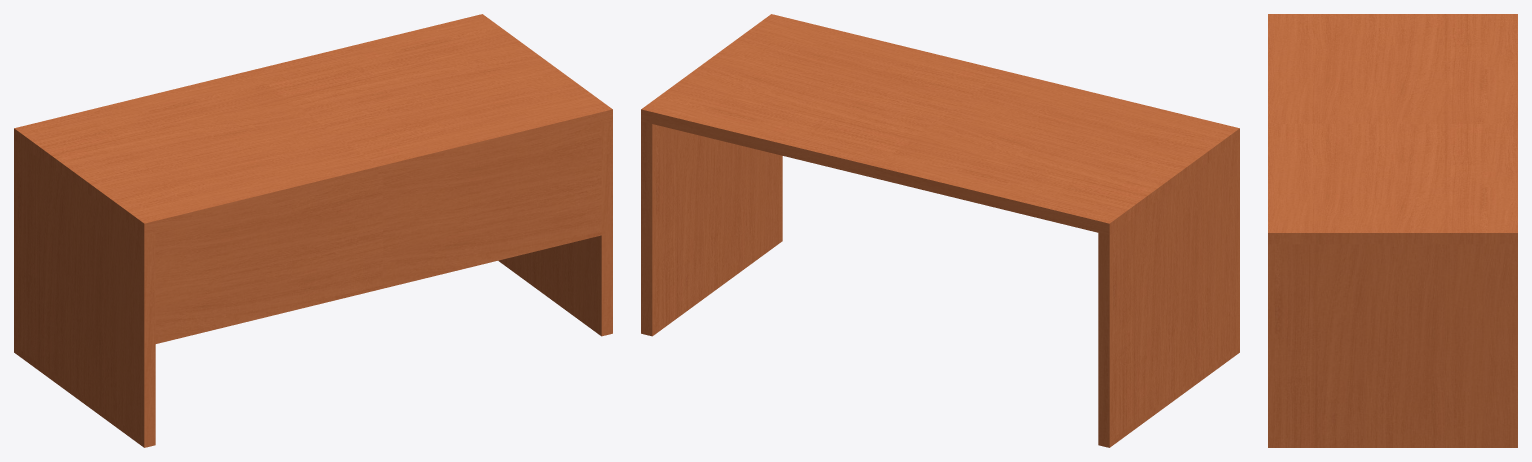
The model's file is Table_02.dae.
3 views of the same model, side by side, from view 1: azimuth 30°, elevation 25°; view 2: azimuth 150°, elevation 25°; view 3: azimuth 270°, elevation 25° (orthographic). The views are drawn at different scales.
Visible parts, largest first — view 1: Table_02; view 2: Table_02; view 3: Table_02.
Boxes of the visible parts, box(x1,y1,x2,y2) form: Table_02: box(14, 14, 612, 447); Table_02: box(641, 14, 1239, 447); Table_02: box(1268, 14, 1517, 447).
Size of the model in its own units: 1.65 by 0.795 by 0.755.
Materials: 1 (1 with a texture image).
